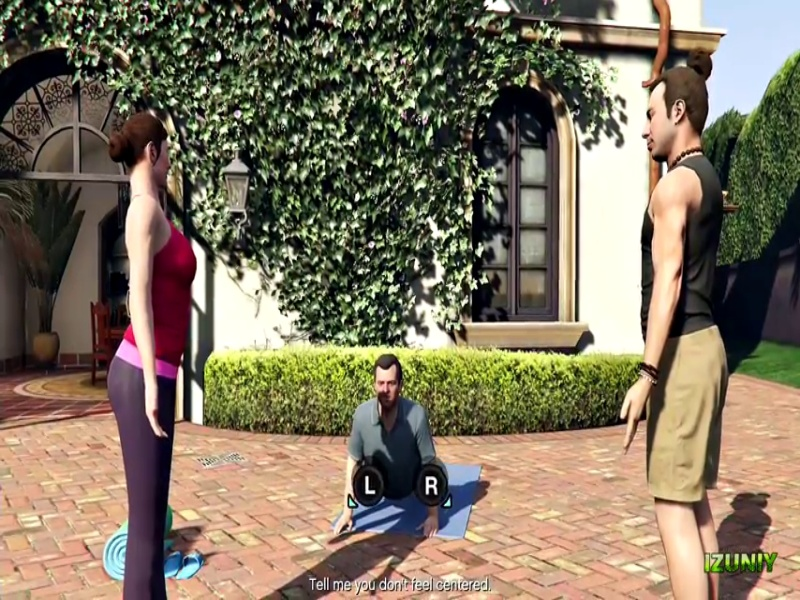licenseplate: (459, 342, 543, 359)
